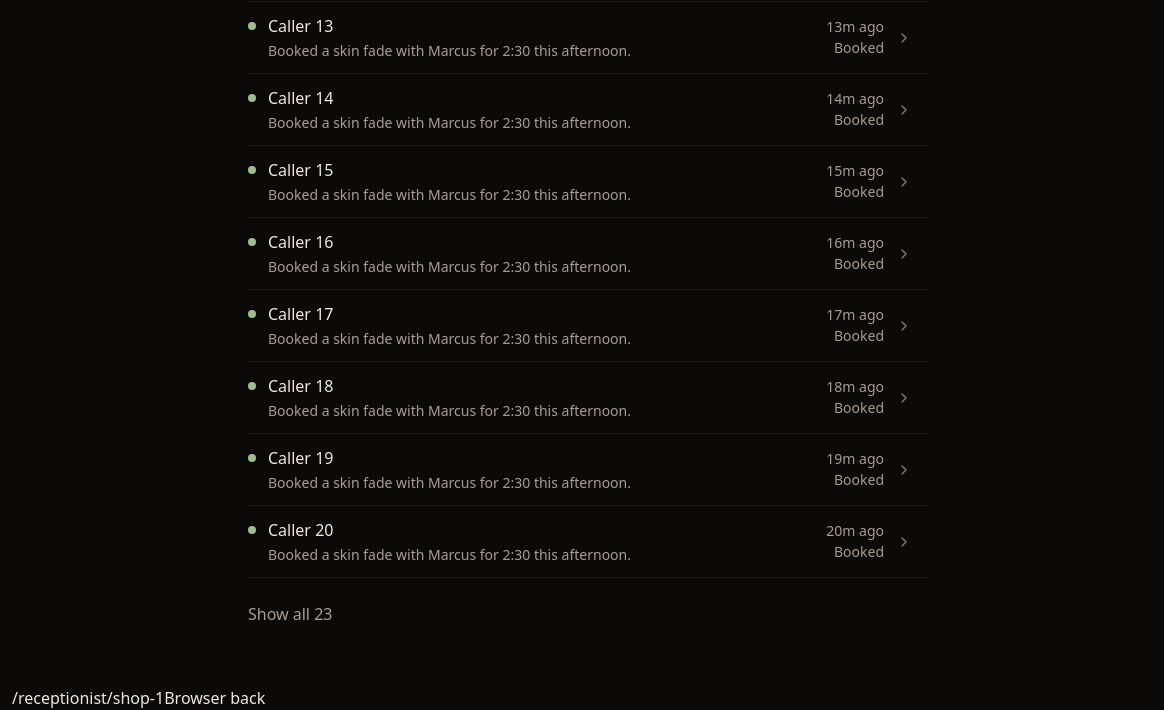
Receptionist: one shop › calls › shows the newest twenty until asked for all of them
(page scrolled)
expect the text "Caller 20" is shown: met, box [268,519,334,541]
expect the text "Caller 21" is not shown: met
Click the button "Show all 23". click: {"x": 290, "y": 614}
box: [232,590,348,638]
(page scrolled)
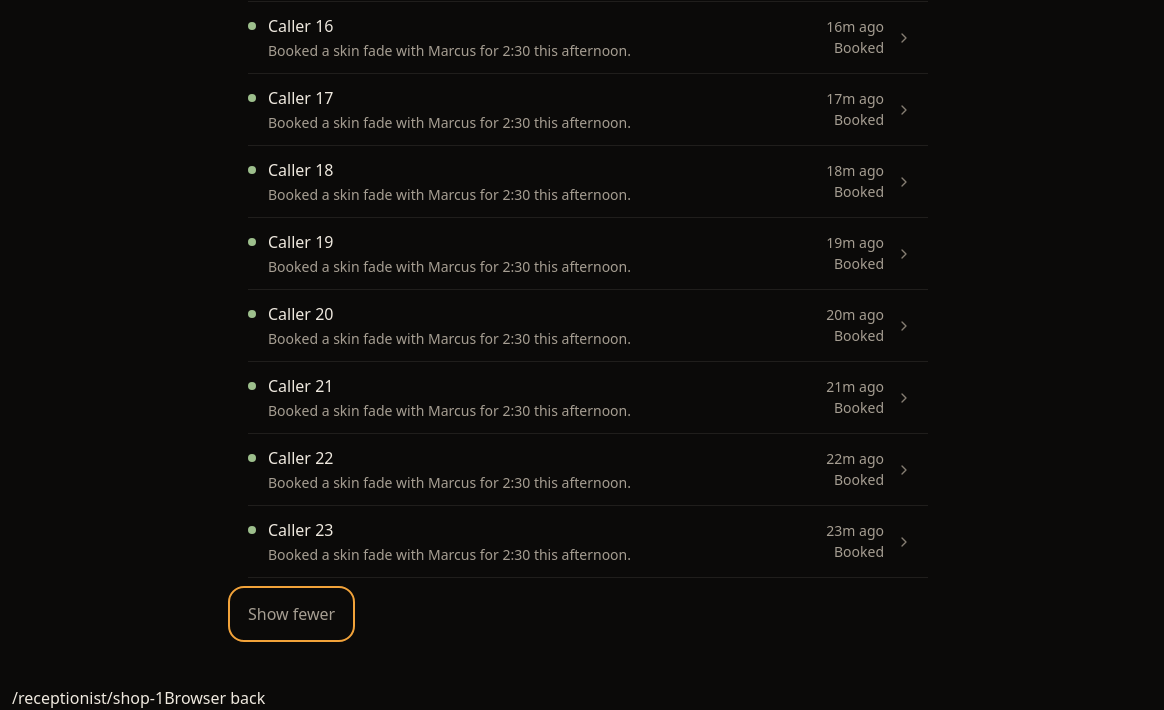
expect the text "Caller 23" is shown: met, box [268,519,334,541]
